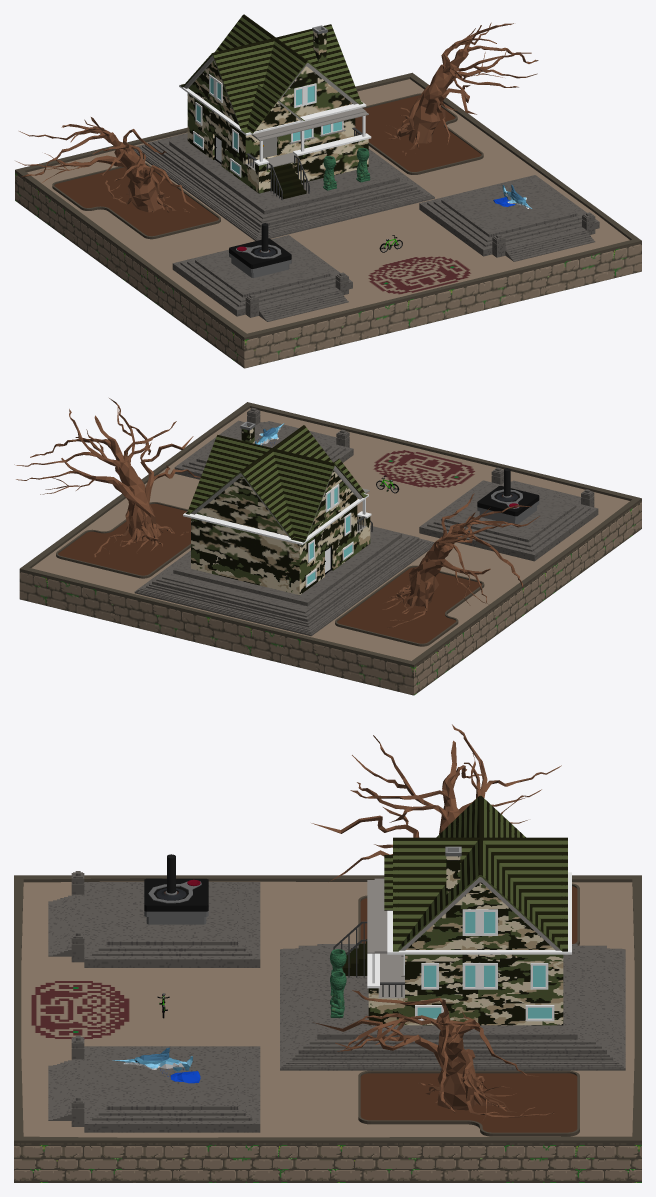
3 renders of one model, top to bottom at view 1: azimuth 30°, elevation 25°; view 2: azimuth 150°, elevation 25°; view 3: azimuth 270°, elevation 25°, orthographic. The views are drawn at different scales.
Visible parts, largest first — view 1: Cube.011, Cube.002, OBJRANDOM_JOYSTICK; view 2: Cube.011, Cube.002, OBJRANDOM_JOYSTICK; view 3: Cube.011, Cube.002, OBJRANDOM_JOYSTICK, ANIMAL_PEZ_ESPADA.
Boxes of the visible parts, bbox=[...] form: Cube.011: bbox=[15, 22, 641, 368]; Cube.002: bbox=[179, 14, 371, 200]; OBJRANDOM_JOYSTICK: bbox=[229, 223, 291, 277]; Cube.011: bbox=[14, 398, 641, 695]; Cube.002: bbox=[183, 421, 372, 595]; OBJRANDOM_JOYSTICK: bbox=[477, 468, 539, 524]; Cube.011: bbox=[14, 724, 641, 1182]; Cube.002: bbox=[333, 795, 571, 1025]; OBJRANDOM_JOYSTICK: bbox=[144, 854, 208, 924]; ANIMAL_PEZ_ESPADA: bbox=[112, 1047, 200, 1083].
Size of the model in its own units: 5099 by 1663 by 4000.
Materials: 38 (7 with a texture image).
